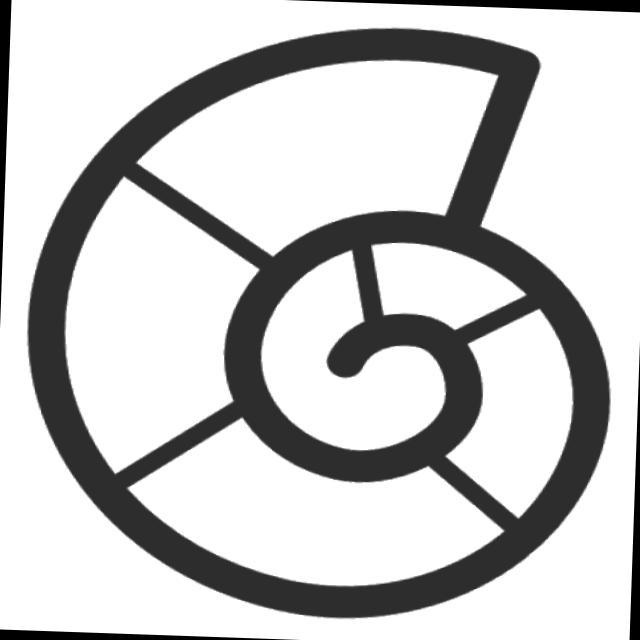fossil: (7, 4, 634, 640)
